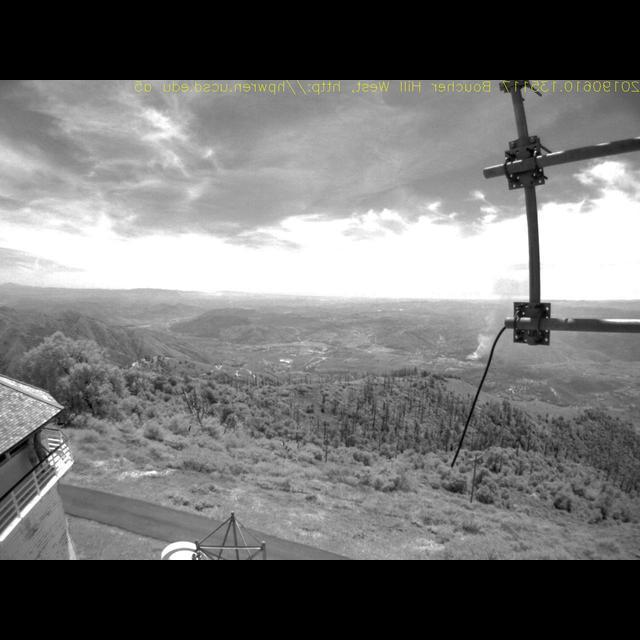Smoke: (467, 278, 520, 361)
